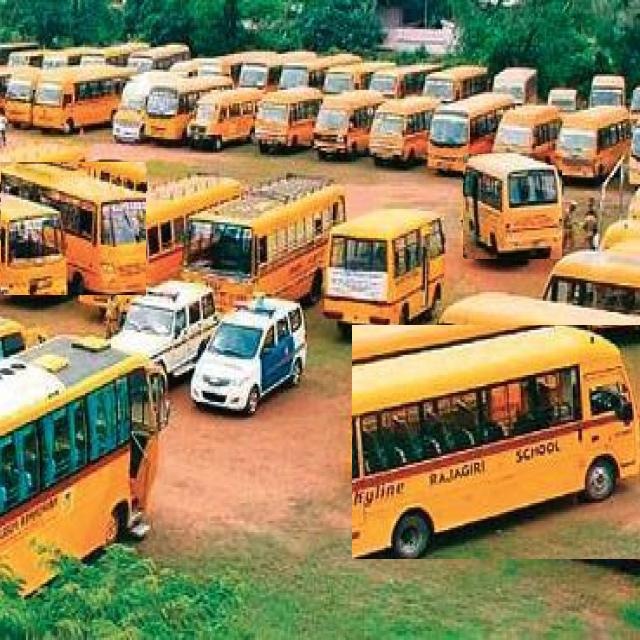bus: (352, 326, 639, 559), (0, 335, 169, 593), (79, 176, 241, 319), (181, 178, 346, 312), (0, 162, 146, 295), (322, 209, 445, 331), (463, 154, 561, 259)
